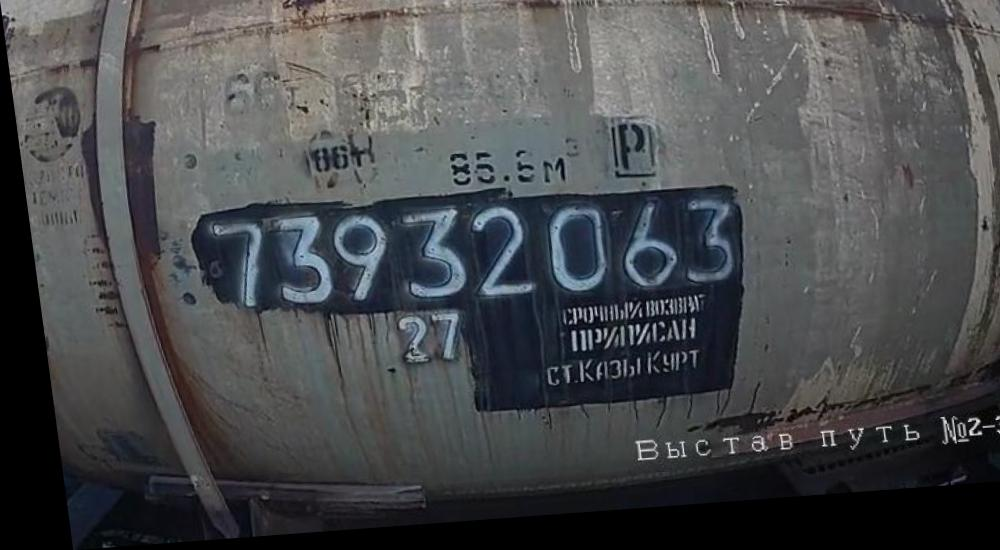Wagon-number: (200, 186, 738, 326)
